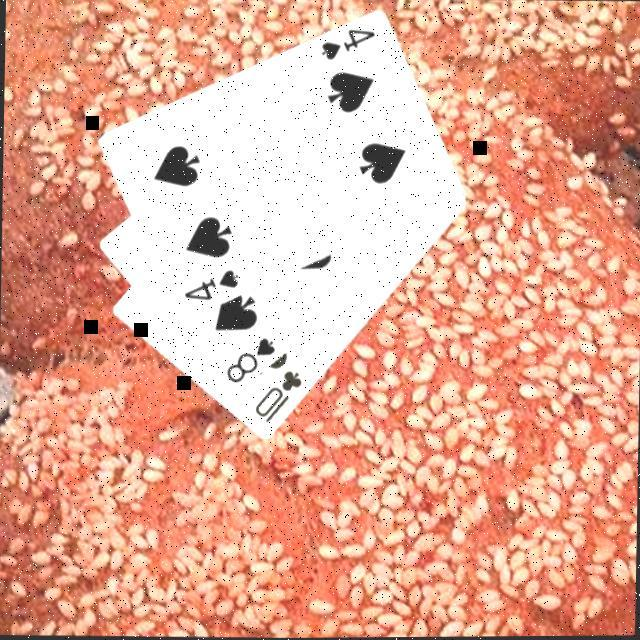10C: (250, 366, 304, 426)
4S: (178, 265, 241, 304), (316, 25, 376, 64)
8S: (222, 334, 278, 386)
